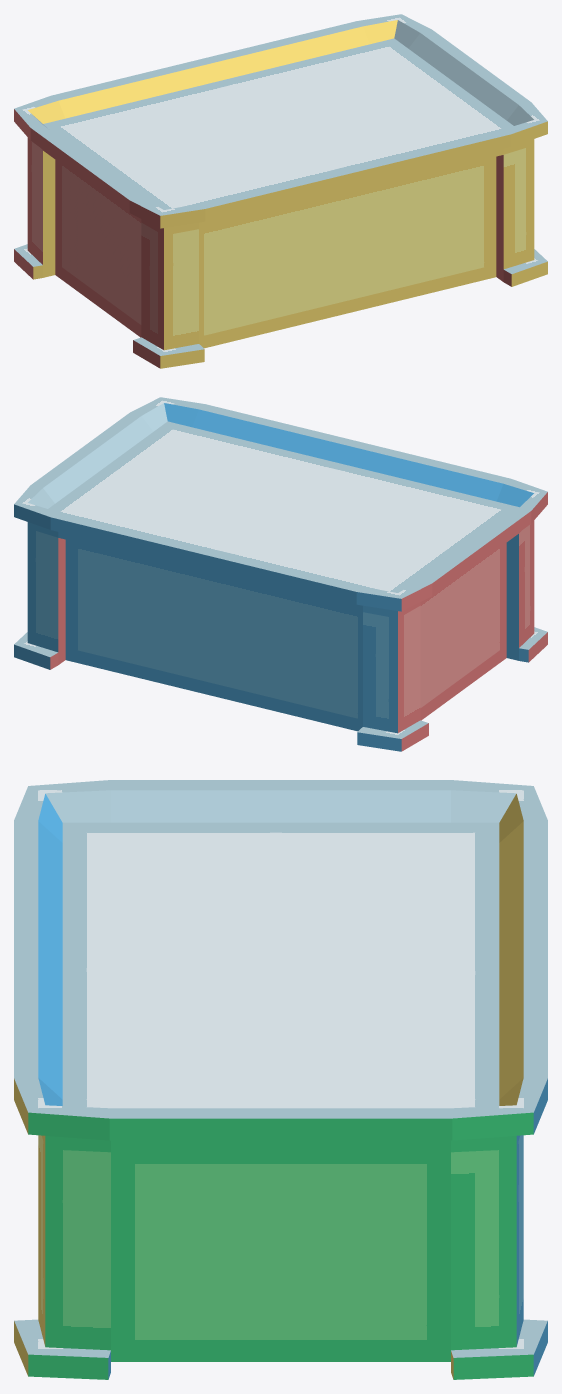
File: store.gltf
3 renders of one model, top to bottom at view 1: azimuth 30°, elevation 25°; view 2: azimuth 150°, elevation 25°; view 3: azimuth 270°, elevation 25°, orthographic. The views are drawn at different scales.
Visible parts, largest first — view 1: cuboid; view 2: cuboid; view 3: cuboid.
Part boxes in pixels (x1,y1,x2,y2): cuboid: (14,14,547,368); cuboid: (14,397,547,751); cuboid: (14,780,547,1379).
Bounding box in the file's own units: 2.06 × 0.75 × 1.37.
1 material, 1 textured.
